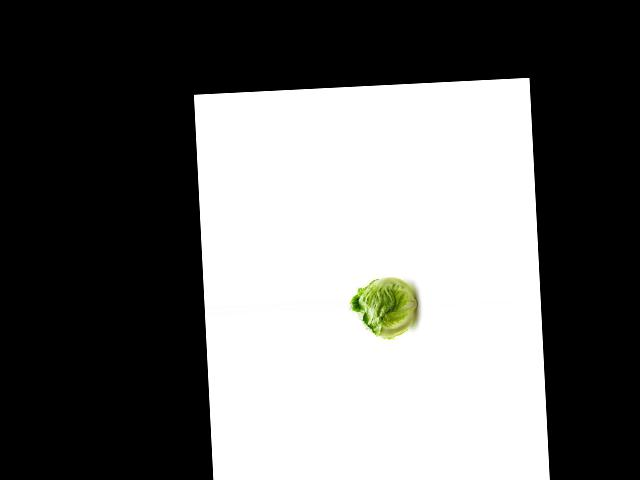lettuce: (348, 273, 421, 346)
